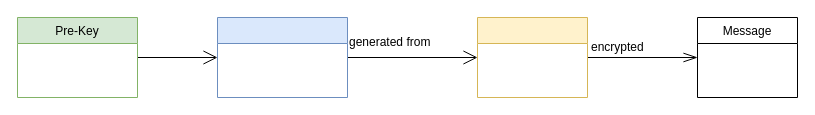
Some shapes in this 815 by 115 pixel diagram are drawn without their labels. The shapes that lost their labels are listed below. From the top down, each one's box as (x1, y1, x2, y2) in pixels, then its label:
(216, 16, 348, 98): Session Key
(476, 16, 588, 98): Message Key
